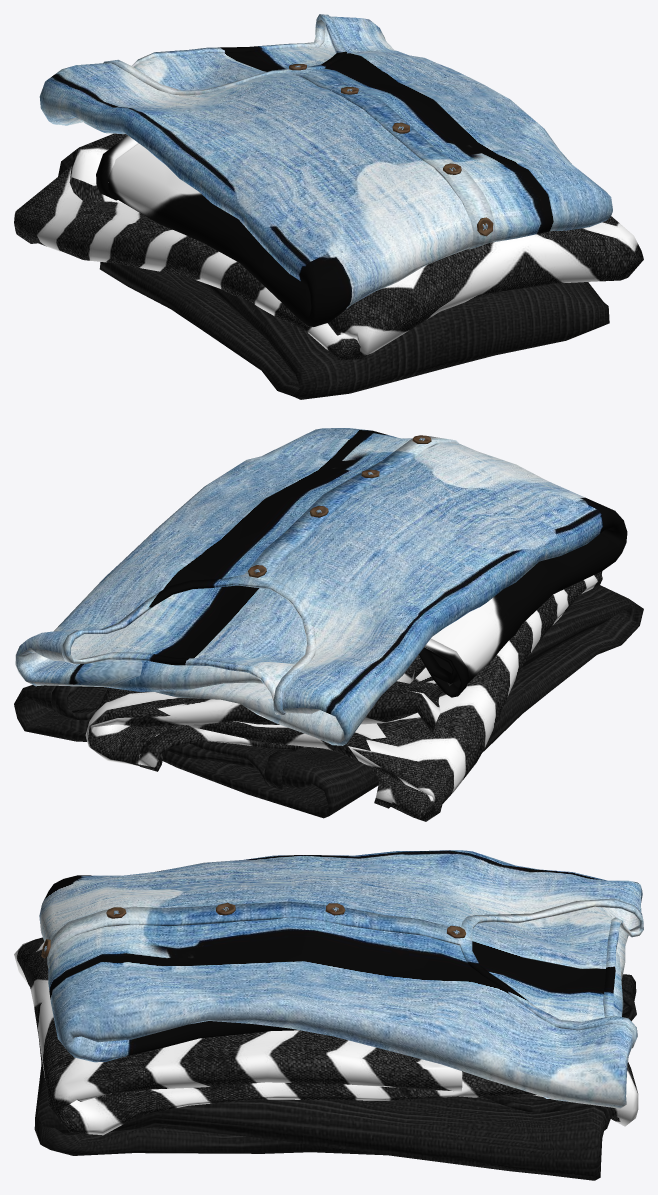
Rendered from shelf-group_folded_items3.glb.
3 renders of one model, top to bottom at view 1: azimuth 30°, elevation 25°; view 2: azimuth 150°, elevation 25°; view 3: azimuth 270°, elevation 25°, orthographic. The views are drawn at different scales.
Visible parts, largest first — view 1: cloth039.001, cloth037.001, cloth038.001; view 2: cloth039.001, cloth037.001, cloth038.001; view 3: cloth039.001, cloth038.001, cloth037.001.
Boxes of the visible parts, x1=… form: cloth039.001: x1=39, y1=14, x2=612, y2=326; cloth037.001: x1=14, y1=133, x2=643, y2=360; cloth038.001: x1=58, y1=149, x2=609, y2=399; cloth039.001: x1=15, y1=428, x2=627, y2=745; cloth037.001: x1=85, y1=571, x2=602, y2=821; cloth038.001: x1=14, y1=585, x2=643, y2=818; cloth039.001: x1=39, y1=850, x2=643, y2=1108; cloth038.001: x1=34, y1=974, x2=636, y2=1180; cloth037.001: x1=14, y1=937, x2=638, y2=1135.
Size of the model in its own units: 0.3142 by 0.1327 by 0.3905.
Materials: 4 (4 with a texture image).
